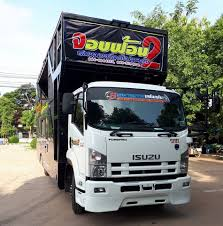truck: (35, 10, 191, 216)
